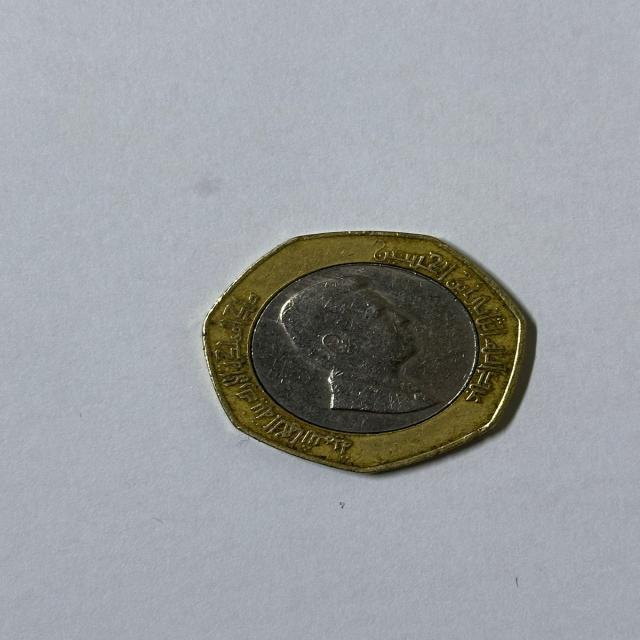50-coins: (202, 230, 530, 473)
